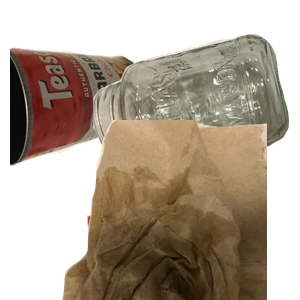glass: (91, 32, 300, 189)
metal: (10, 44, 151, 203)
plastic: (84, 191, 242, 300)
trash: (60, 120, 300, 300)
